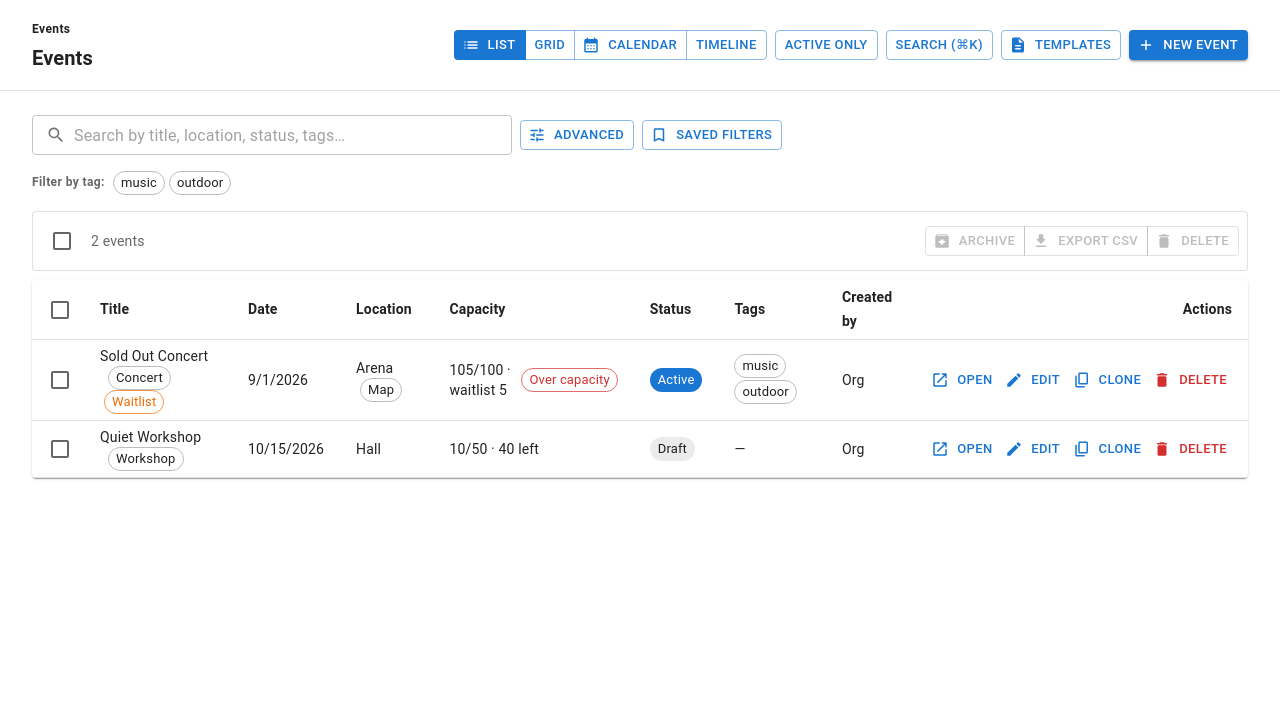
Test case: EventsPage compatibility › shows all lifecycle statuses in the status filter
Expected: the text "Sold Out Concert" is shown, [100, 348, 208, 364]
Click the button "Advanced": (577, 135) [520, 120, 634, 150]
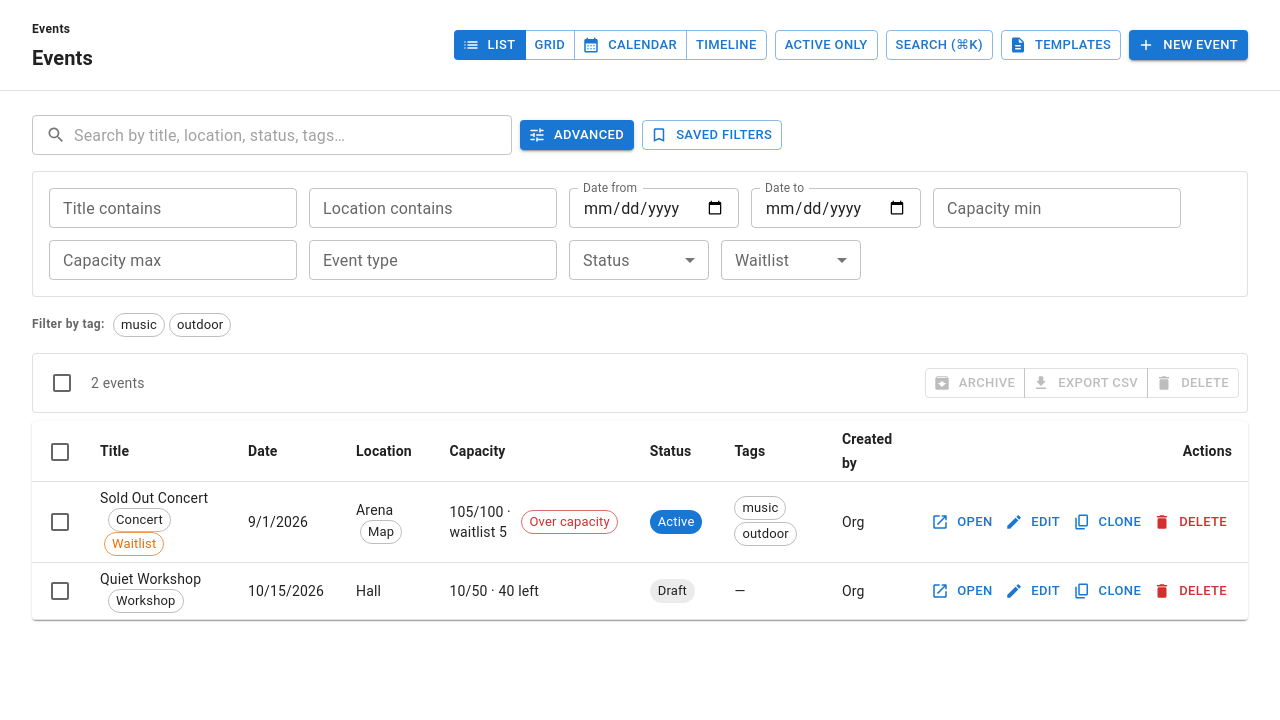
Press the mouse on the 1st dropdown named "Status": (639, 260) [569, 240, 709, 280]
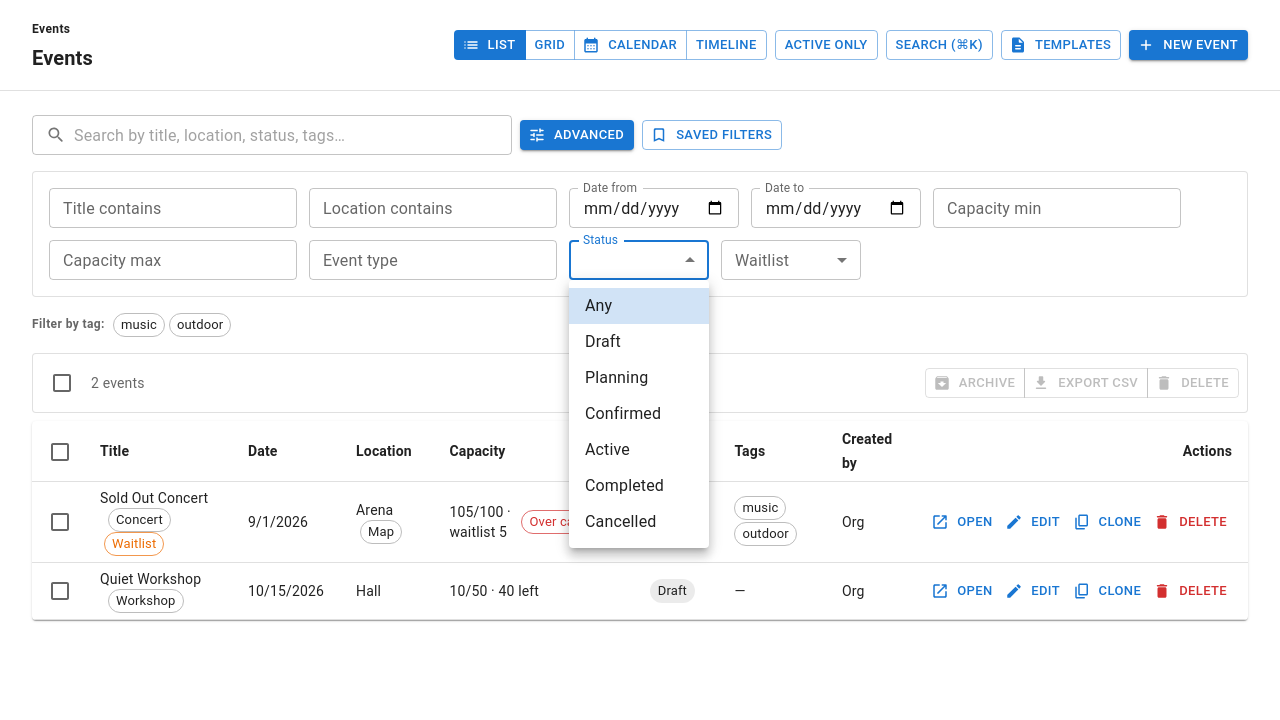
Expected: the option "Any" is shown, [569, 288, 709, 324]
Expected: the option "Draft" is shown, [585, 332, 621, 351]
Expected: the option "Planning" is shown, [585, 368, 648, 387]
